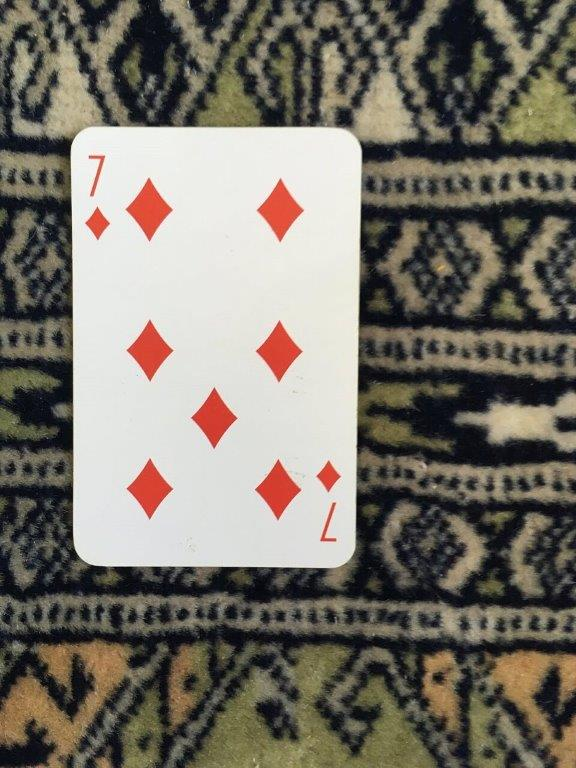7D: (66, 123, 365, 573)
